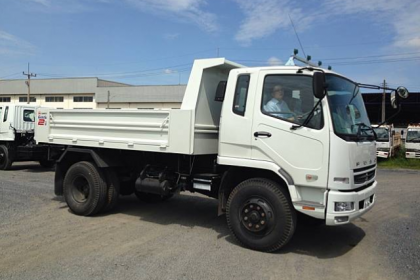truck: (38, 60, 379, 252)
